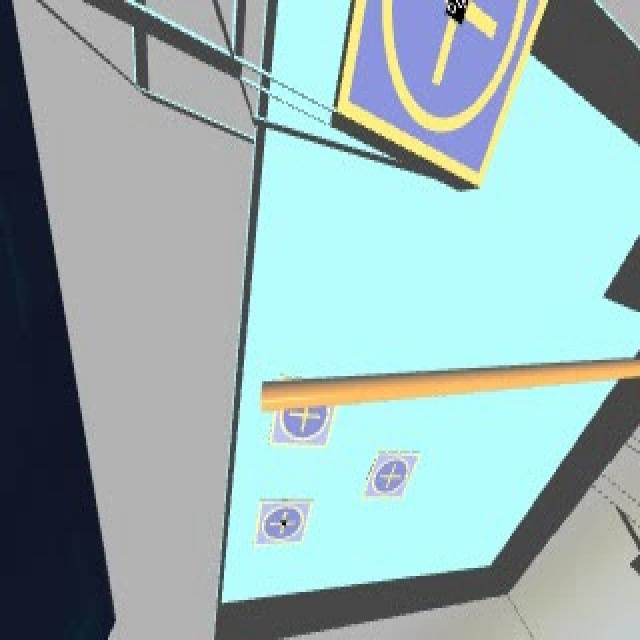Yellow-crosses: (398, 0, 506, 83), (288, 397, 324, 436), (266, 510, 302, 544), (378, 462, 403, 496)
